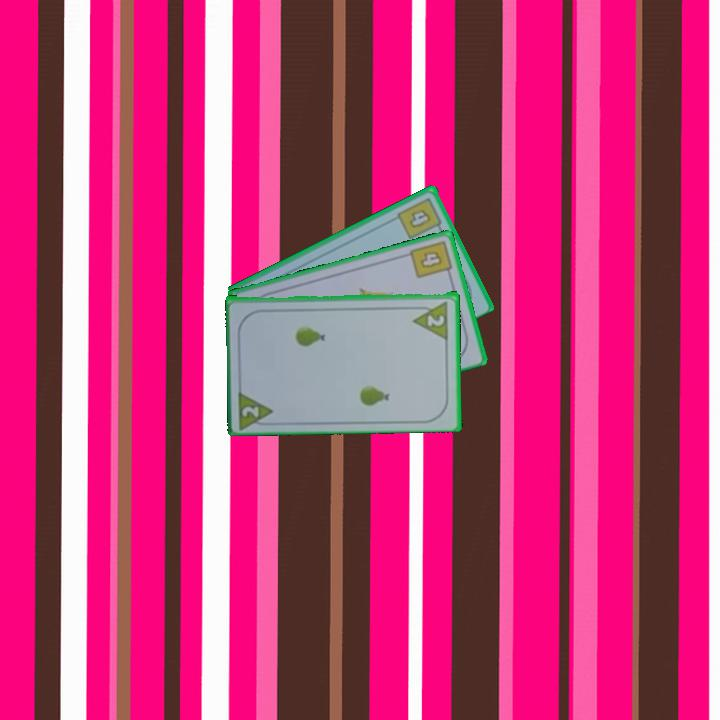2p: (410, 297, 451, 340), (238, 402, 262, 419)
4b: (394, 193, 445, 241), (406, 236, 455, 281)
